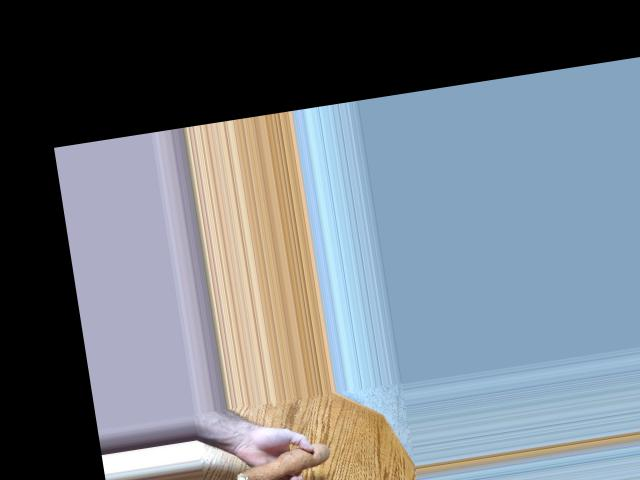sweet_potato: (225, 445, 337, 480)
